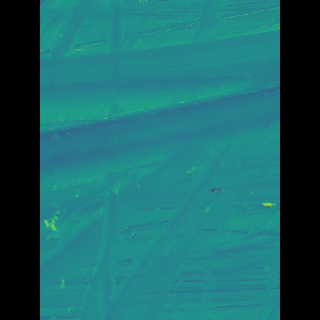Loch: (70, 26, 248, 302)
